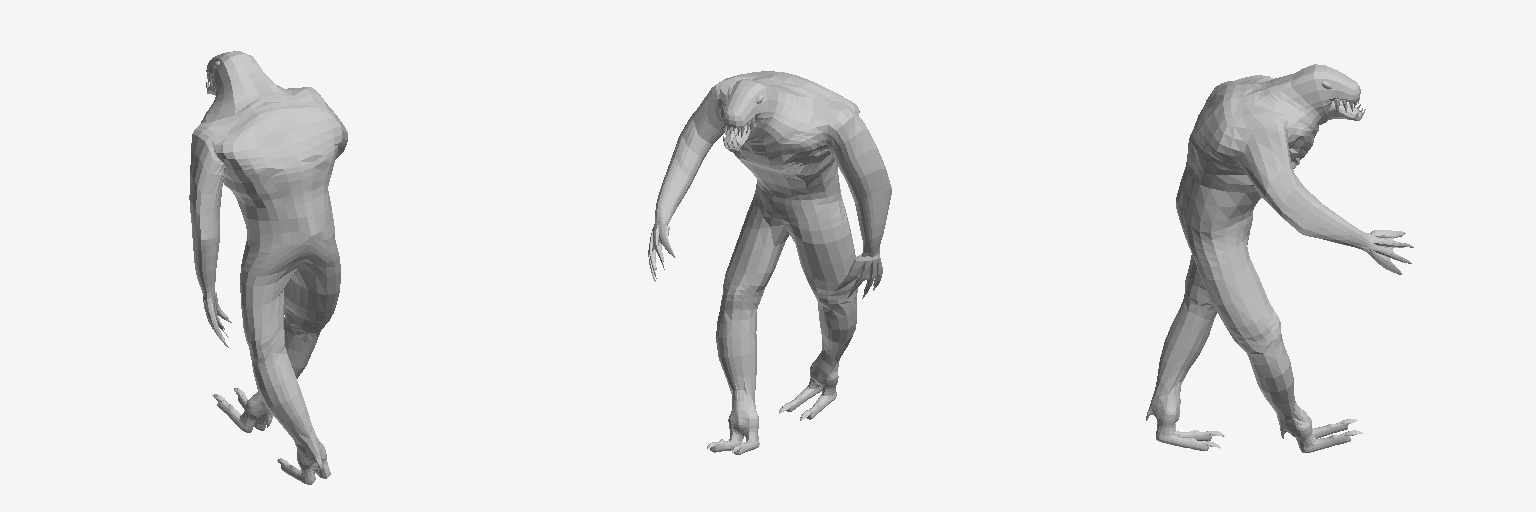
The model's file is Berserkerandar.0027.obj.
The picture shows the model from 3 angles: view 1: azimuth 30°, elevation 25°; view 2: azimuth 150°, elevation 25°; view 3: azimuth 270°, elevation 25°; orthographic projection.
Visible parts, largest first — view 1: polySurface27; view 2: polySurface27; view 3: polySurface27.
Boxes of the visible parts, x1,y1,x2,y2 form: polySurface27: [189, 51, 347, 484]; polySurface27: [648, 71, 891, 454]; polySurface27: [1146, 64, 1413, 452].
Bounding box in the file's own units: 11.47 × 22.87 × 14.79.